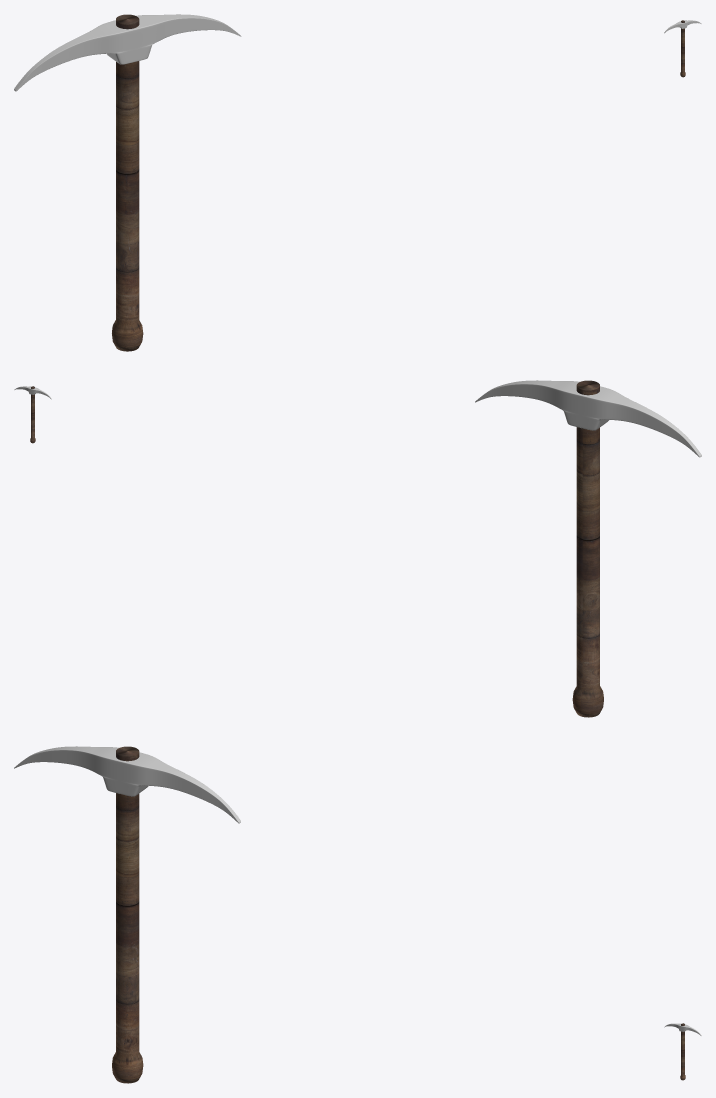
File: Кирка.fbx
3 views of the same model, one above another, from view 1: azimuth 30°, elevation 25°; view 2: azimuth 150°, elevation 25°; view 3: azimuth 330°, elevation 25° (orthographic).
Parts seen in each view (by area): view 1: Cylinder.001, Plane.001; view 2: Cylinder.001, Plane.001; view 3: Cylinder.001, Plane.001.
Boxes of the visible parts, x1,y1,x2,y2 form: Cylinder.001: (112, 14, 143, 351); Plane.001: (14, 14, 241, 91); Cylinder.001: (572, 380, 603, 717); Plane.001: (475, 380, 701, 457); Cylinder.001: (112, 746, 143, 1083); Plane.001: (14, 746, 240, 823).
Bounding box in the file's own units: 1829 × 832 × 72.81.
